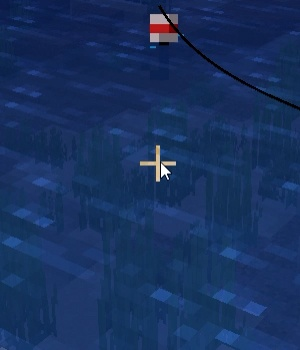up: (140, 5, 183, 70)
